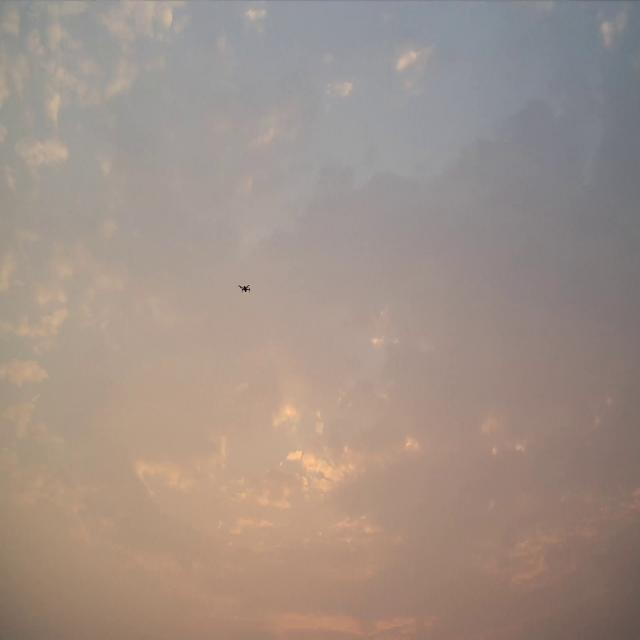UAV: (238, 284, 252, 293)
